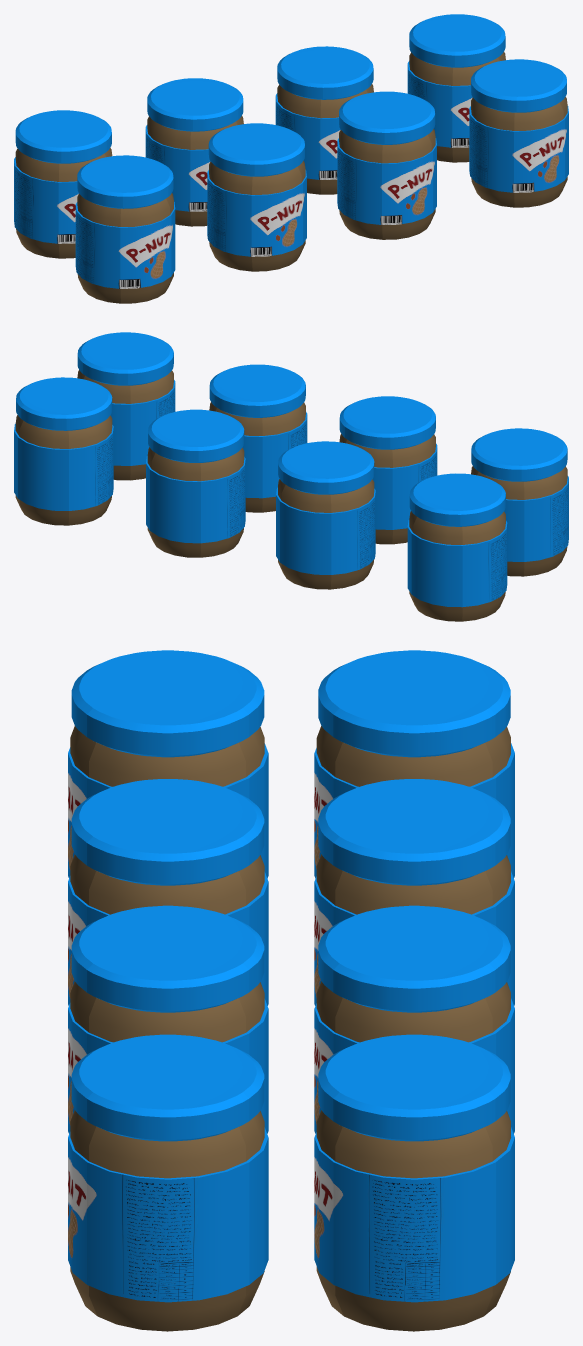
File: peanutbutter.fbx
3 renders of one model, top to bottom at view 1: azimuth 30°, elevation 25°; view 2: azimuth 150°, elevation 25°; view 3: azimuth 270°, elevation 25°, orthographic. The views are drawn at different scales.
Parts seen in each view (by area): view 1: label, label.015, label.004, label.008, lid.004, lid.009, lid.014, lid, lid.001, lid.005, lid.008, lid.015 (+12 smaller); view 2: label.001, label.005, label.009, label.014, lid, lid.001, lid.004, lid.005, lid.015, lid.008, lid.009, lid.014 (+12 smaller); view 3: label.015, label.014, lid, lid.015, lid.008, lid.004, lid.014, lid.001, lid.009, lid.005, PeanutButter14, PeanutButter15 (+12 smaller).
Boxes of the visible parts, x1,y1,x2,y2 form: label: (75,202,175,288); label.015: (469,106,568,192); label.004: (207,170,306,256); label.008: (337,138,436,224); lid.004: (208,123,304,176); lid.009: (277,46,373,99); lid.014: (409,14,505,67); lid: (77,155,173,208); lid.001: (15,110,111,163); lid.005: (147,78,243,131); lid.008: (339,91,435,144); lid.015: (471,59,566,112); label.001: (407,520,507,607); label.005: (276,487,375,574); label.009: (146,456,245,543); label.014: (14,424,113,510); lid: (471,428,567,481); lid.001: (409,473,505,526); lid.004: (339,396,435,449); lid.005: (278,441,374,494); lid.015: (77,332,173,385); lid.008: (209,364,305,417); lid.009: (148,409,244,462); lid.014: (16,377,112,430); label.015: (68,1127,268,1302); label.014: (314,1127,514,1302); lid: (71,650,264,757); lid.015: (71,1034,264,1141); lid.008: (71,905,264,1012); lid.004: (71,779,264,885); lid.014: (318,1034,510,1141); lid.001: (318,650,510,757); lid.009: (318,905,510,1012); lid.005: (318,779,510,885); PeanutButter14: (316,1110,510,1331); PeanutButter15: (70,1110,264,1331).
Bounding box in the file's own units: 61.38 × 13.6 × 24.73.
3 materials, 3 textured.
